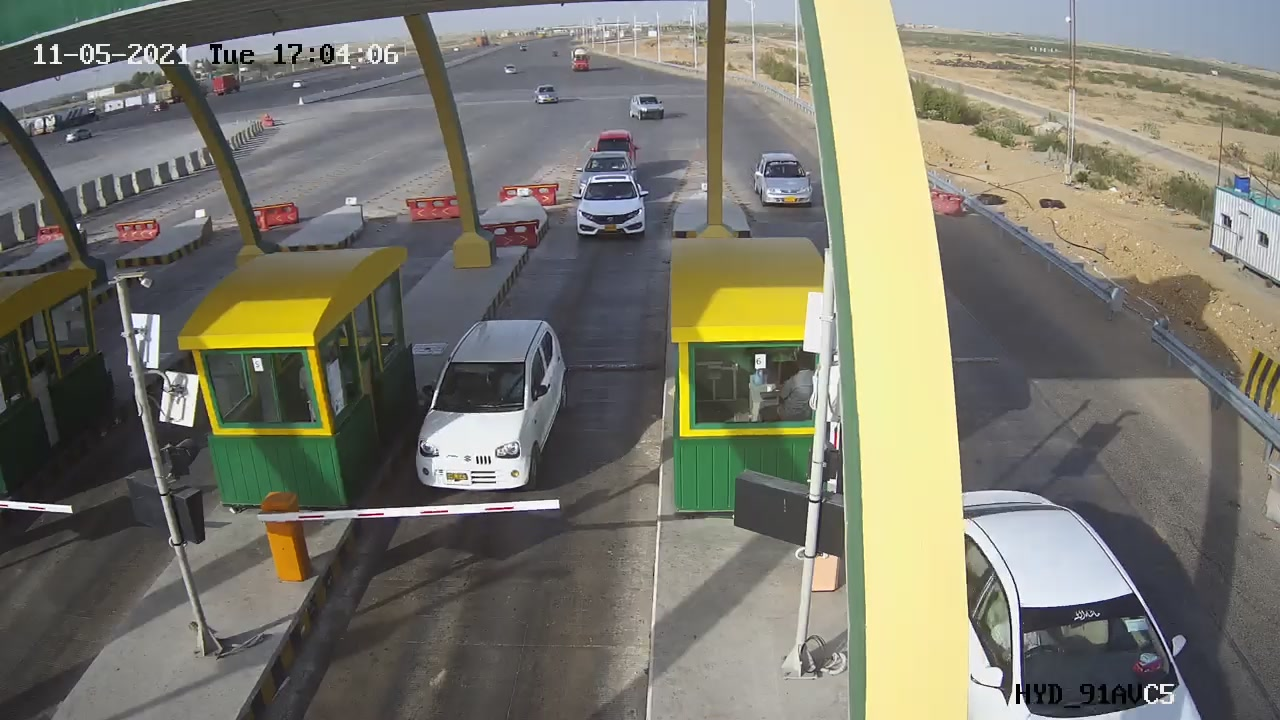F1: (392, 301, 586, 508), (556, 165, 661, 255)
